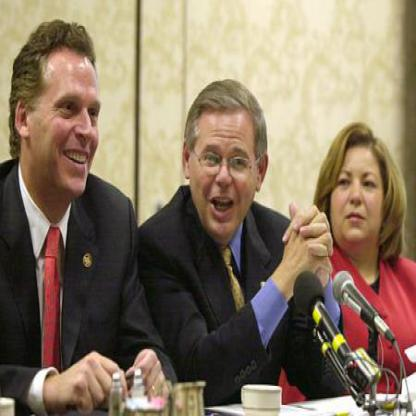face: (29, 31, 111, 200), (191, 83, 258, 239), (327, 129, 390, 248)
